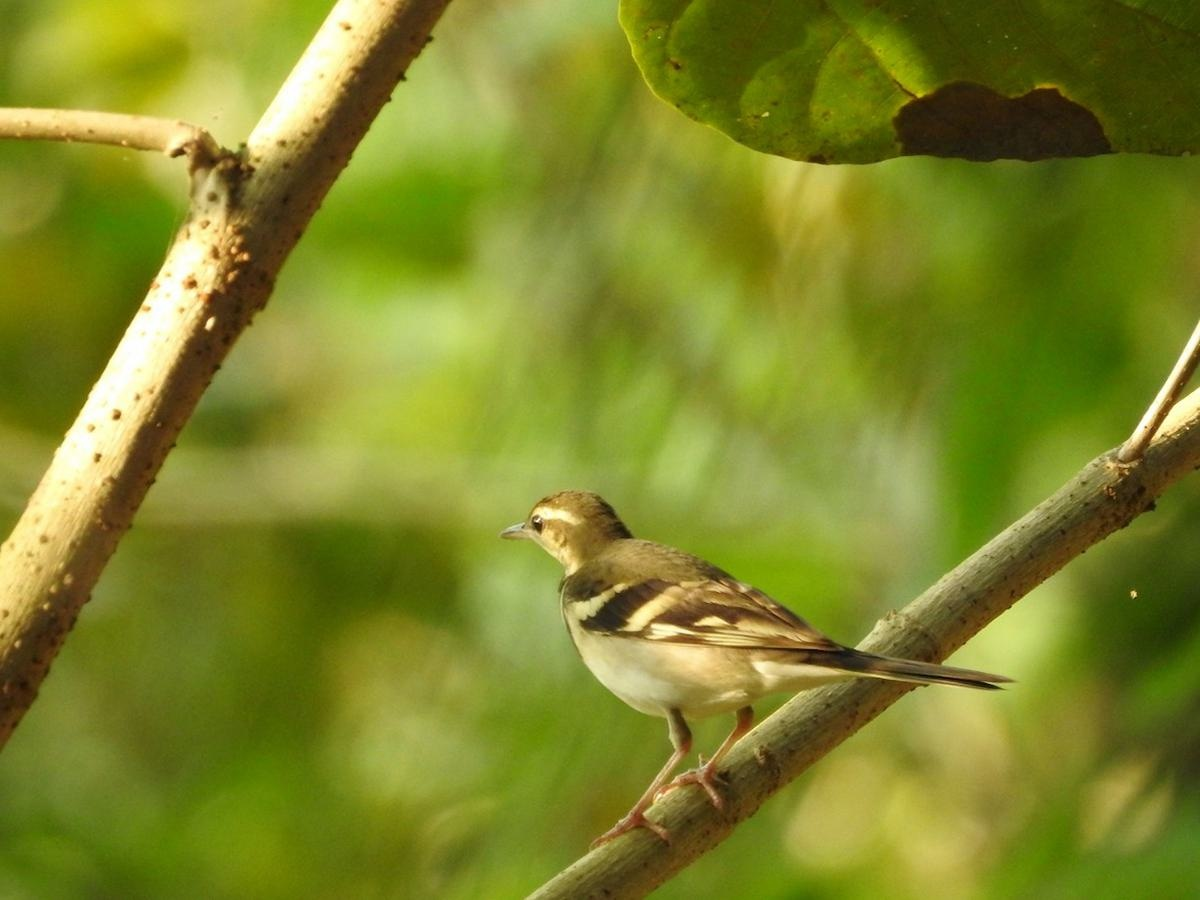wagtail: (501, 453, 981, 795)
